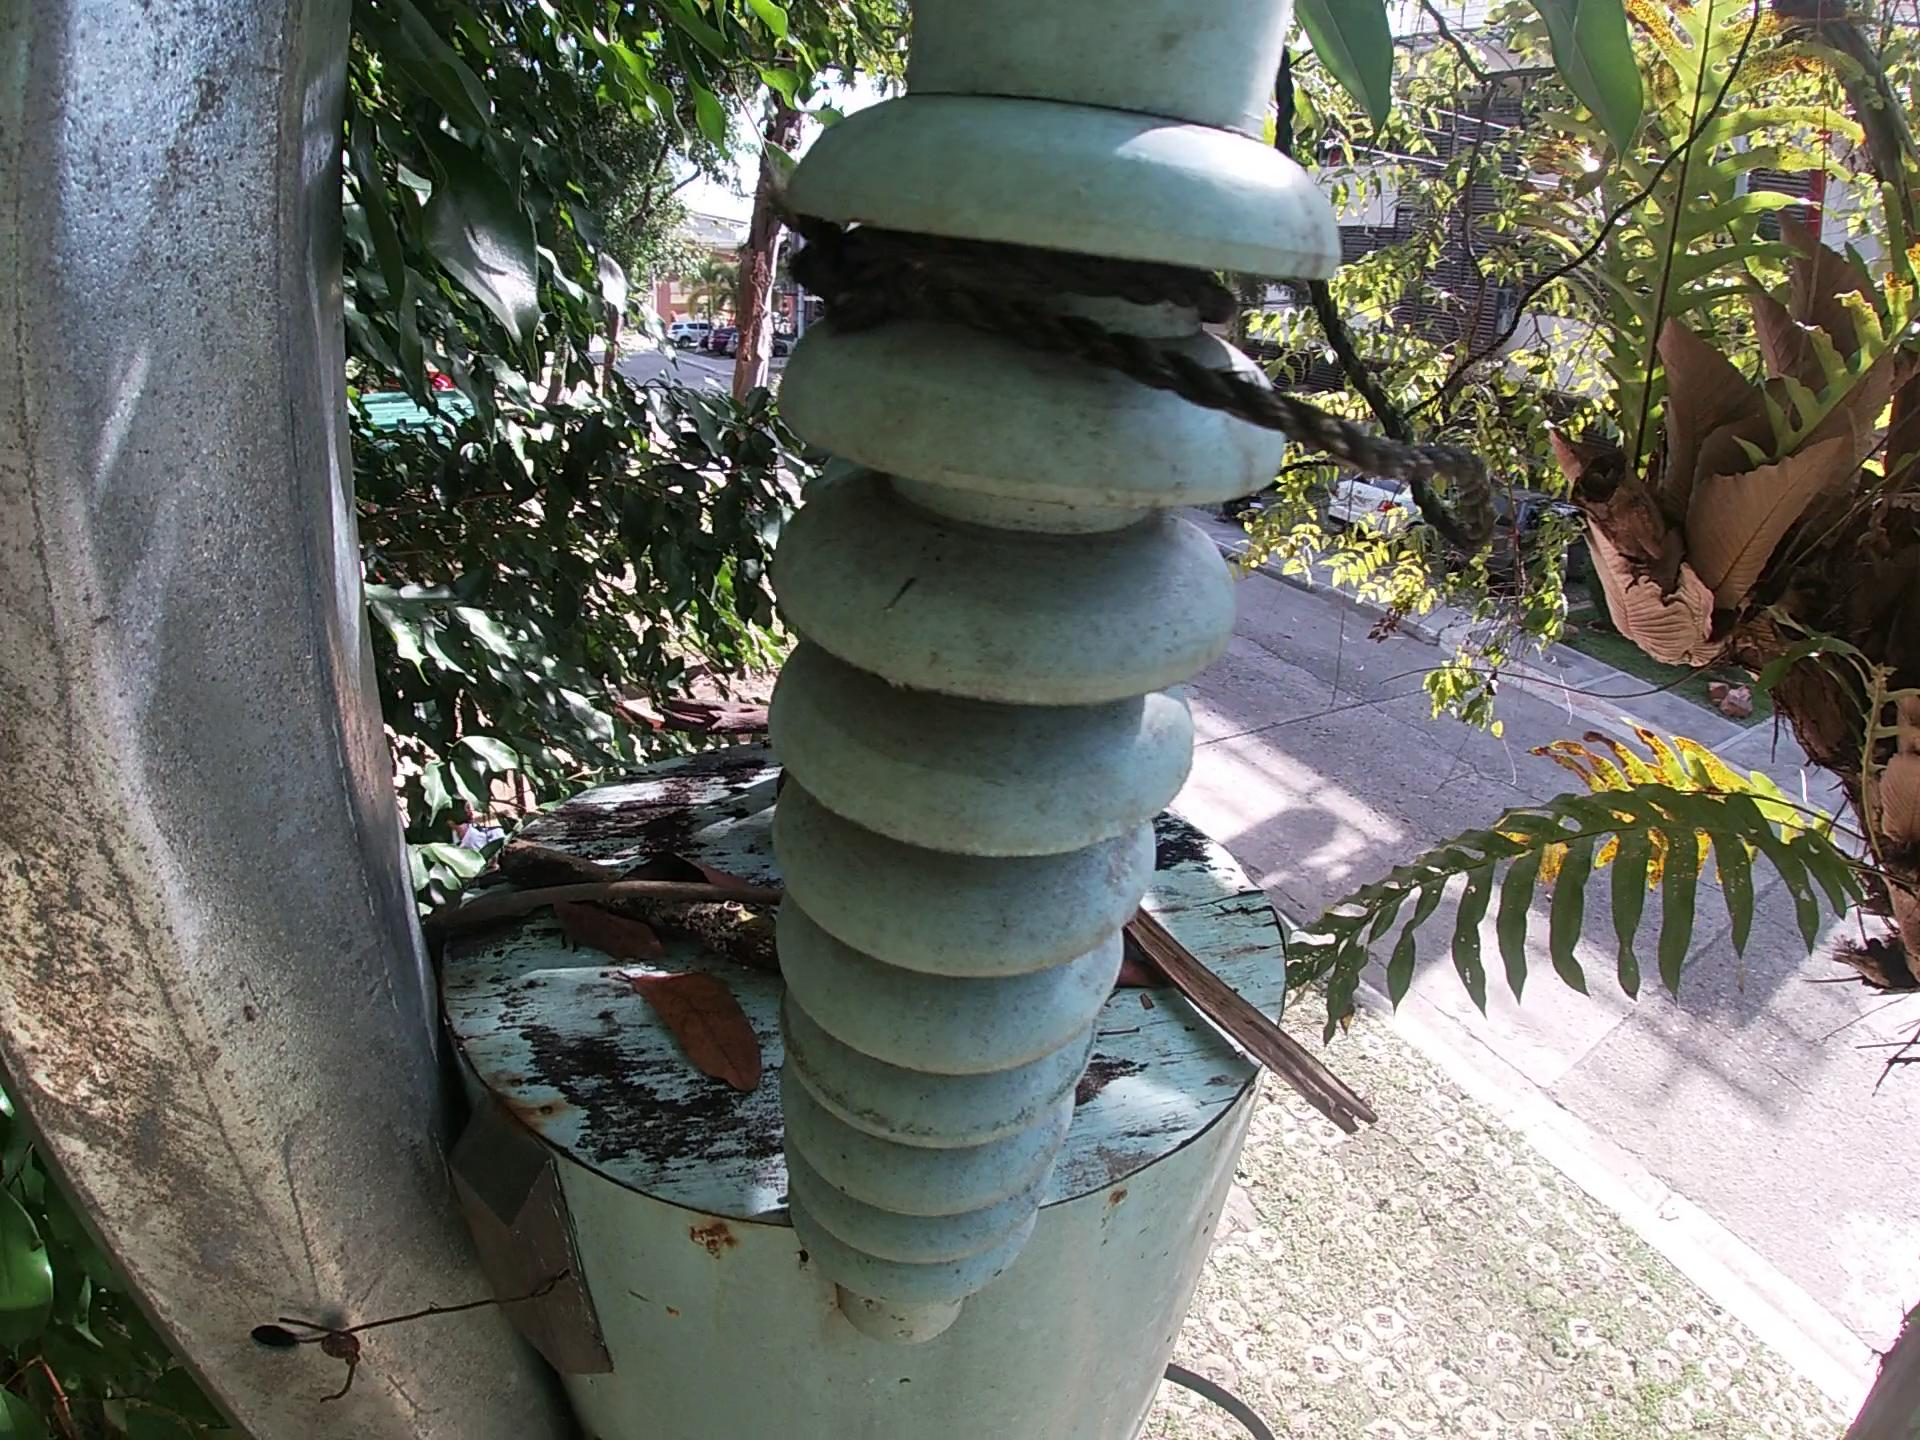leaf: (615, 967, 766, 1097), (550, 895, 665, 962), (612, 849, 742, 882)
tree branch: (1125, 905, 1380, 1134), (491, 838, 788, 973), (417, 874, 785, 941), (655, 694, 773, 741)
